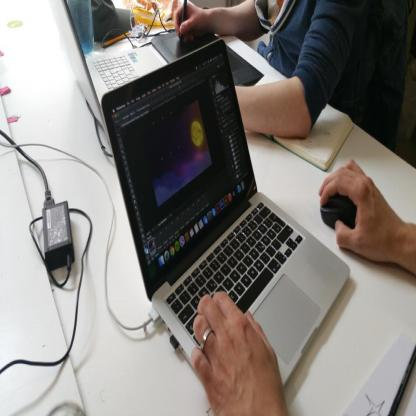board: (93, 40, 341, 391), (85, 31, 264, 112)
